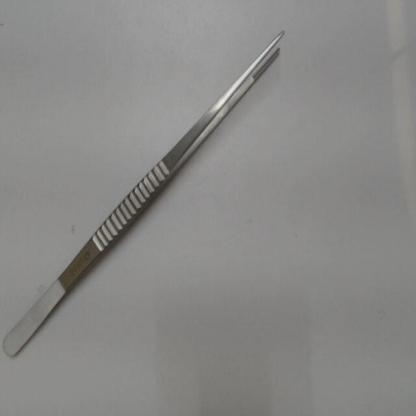DeBakey Dissector: (2, 7, 314, 367)
